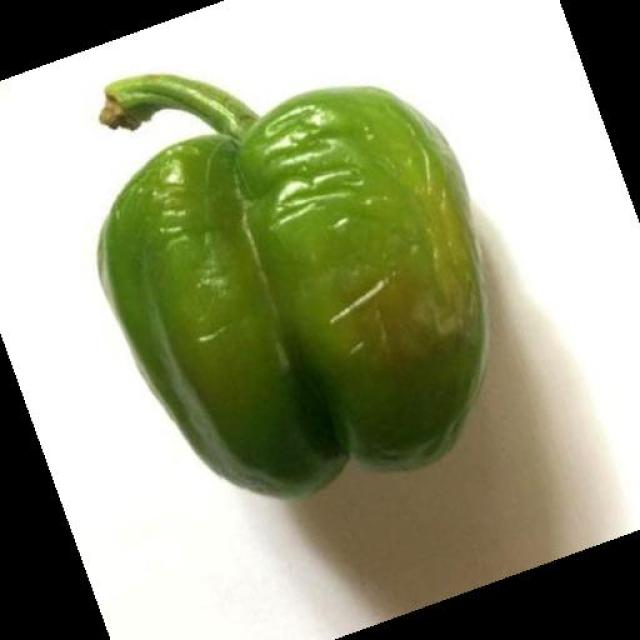Stale_Capsicum: (81, 167, 539, 495)
